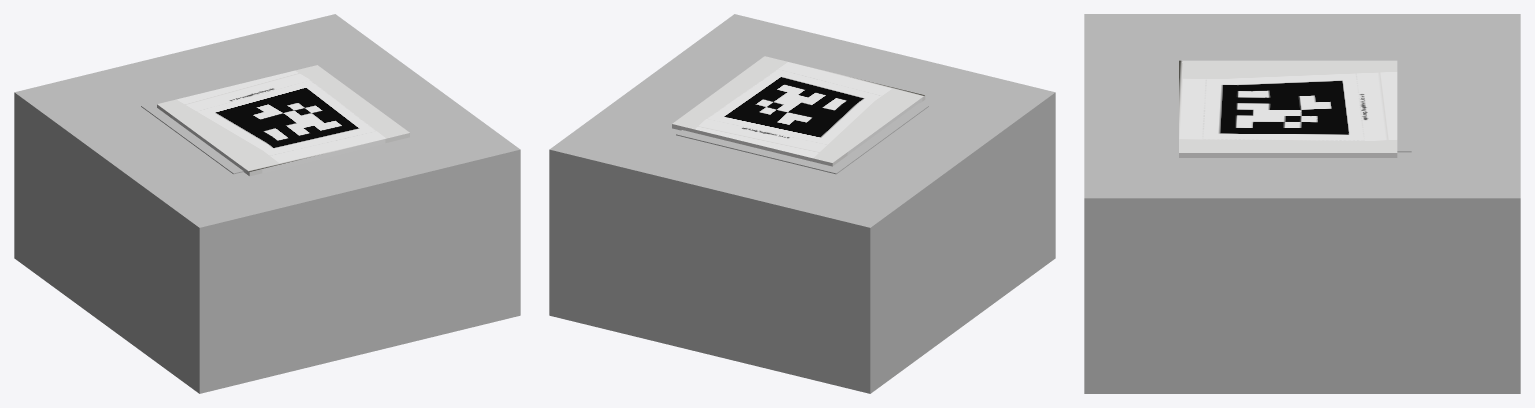
Rendered from apriltag_mesh5.dae.
The picture shows the model from 3 angles, left to right: view 1: azimuth 30°, elevation 25°; view 2: azimuth 150°, elevation 25°; view 3: azimuth 270°, elevation 25°; orthographic projection. The views are drawn at different scales.
Visible parts, largest first — view 1: node; view 2: node; view 3: node.
Boxes of the visible parts, left/top/right/bottom form: node: left=14, top=14, right=520, bottom=393; node: left=549, top=14, right=1055, bottom=393; node: left=1084, top=14, right=1520, bottom=393.
Bounding box in the file's own units: 2 × 1.02 × 2.
